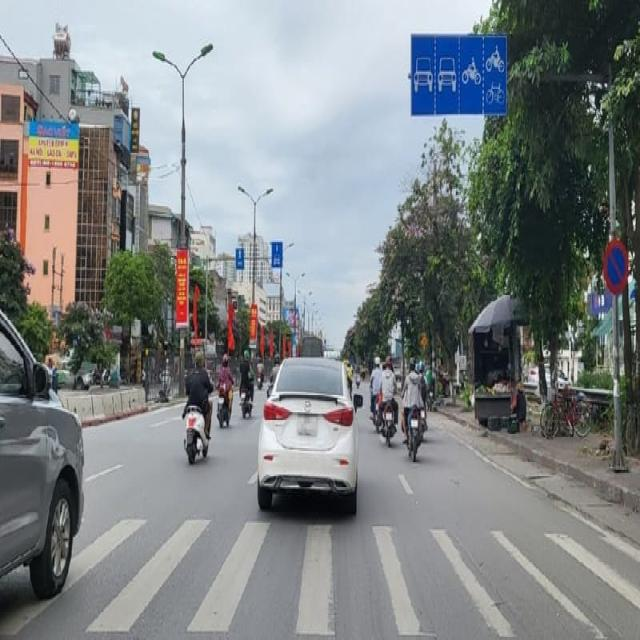car: (2, 297, 88, 619), (254, 349, 361, 519)
motobyte: (180, 344, 214, 476), (402, 356, 422, 467), (380, 352, 399, 456), (216, 345, 236, 438), (236, 342, 256, 423), (368, 347, 383, 432)
